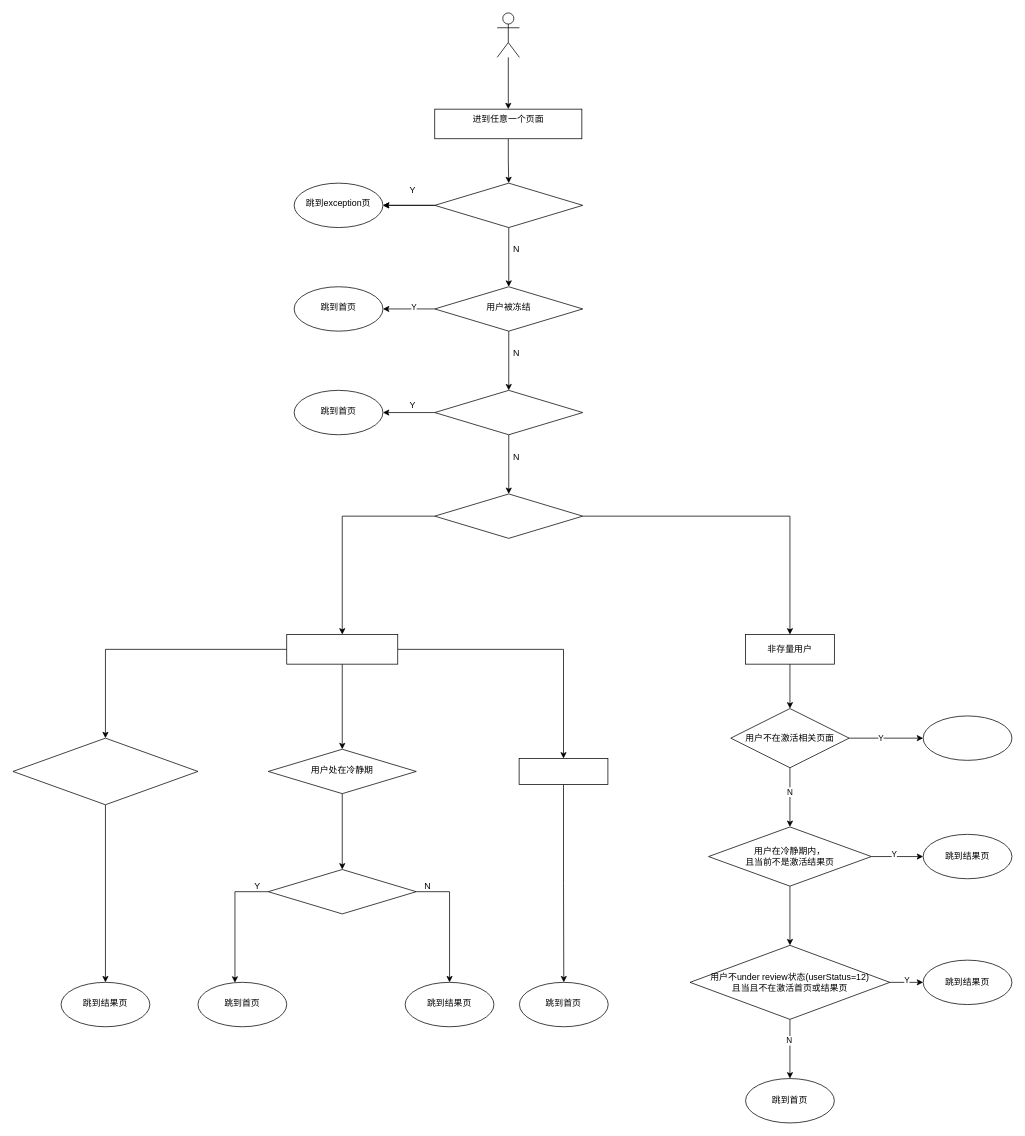
Some shapes in this 1025 by 1136 pixel diagram are drawn without their labels. Here are the shapes that lost their labels. From the top down, the centre of each, then its label:
(507,34): User
(508,205): 用户状态异常 isLogin=0 或 userStatus=0
(508,412): 用户正常状态 (userStatus = 20)
(508,515): 用户未激活
(342,649): 存量用户
(967,737): 跳到激活首页
(105,771): 用户处在 UnderReview状态(useStatus=12) 且当前页面不是结果页
(563,771): 其他剩下的情况
(342,891): 用户此时在首页或结果页
